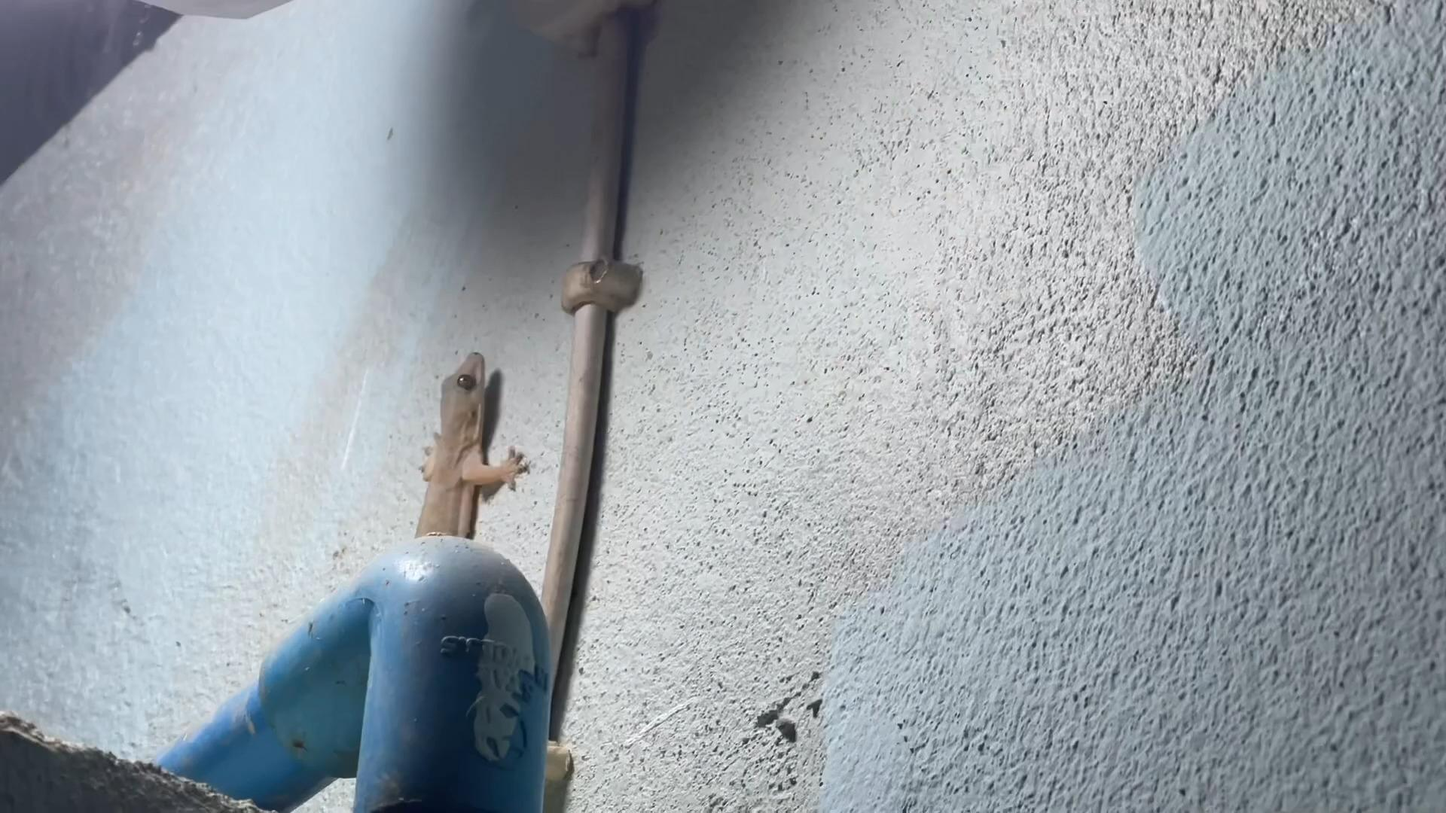lizard: (396, 341, 527, 521)
